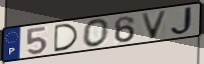5: (25, 25, 49, 56)
6: (113, 15, 137, 43)
D: (53, 22, 81, 53)
J: (169, 5, 196, 38)
O: (82, 17, 111, 48)
V: (139, 10, 169, 40)
